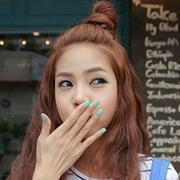face: (52, 47, 116, 136)
